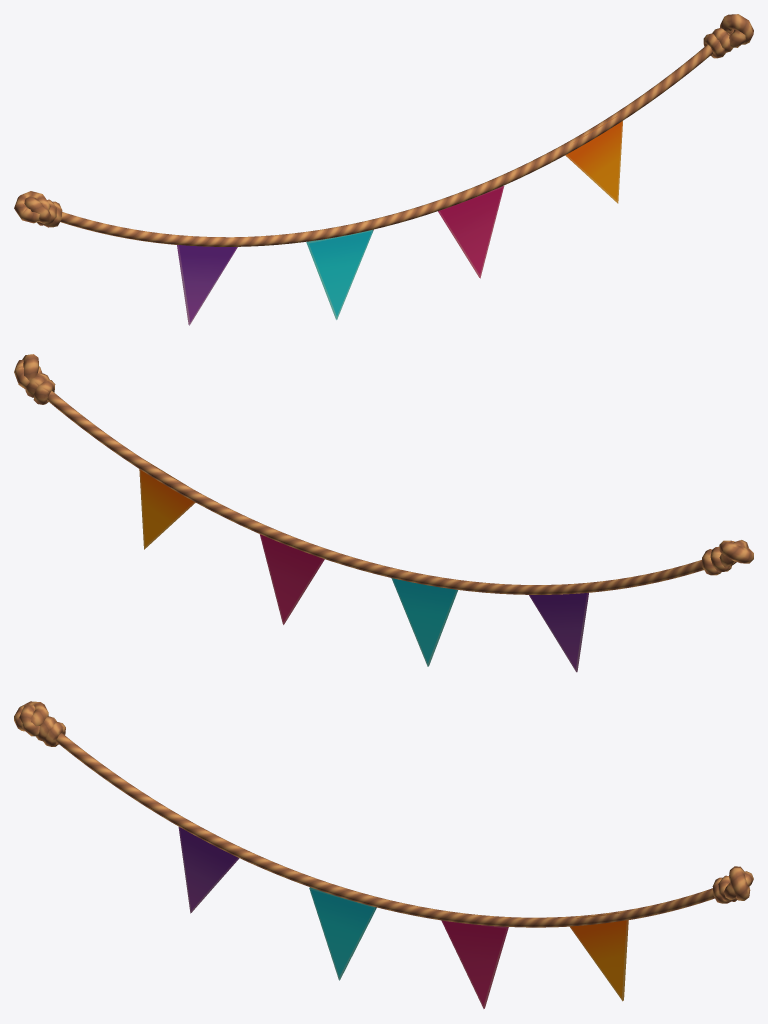
The model's file is SE_Rope_01a.fbx.
3 renders of one model, top to bottom at view 1: azimuth 30°, elevation 25°; view 2: azimuth 150°, elevation 25°; view 3: azimuth 330°, elevation 25°, orthographic.
Visible parts, largest first — view 1: SE_Rope_01a; view 2: SE_Rope_01a; view 3: SE_Rope_01a.
Part boxes in pixels (x1,y1,x2,y2): SE_Rope_01a: (14,14,753,325); SE_Rope_01a: (14,354,753,672); SE_Rope_01a: (14,701,753,1008).
Size of the model in its own units: 12.09 by 3.34 by 0.5222.
